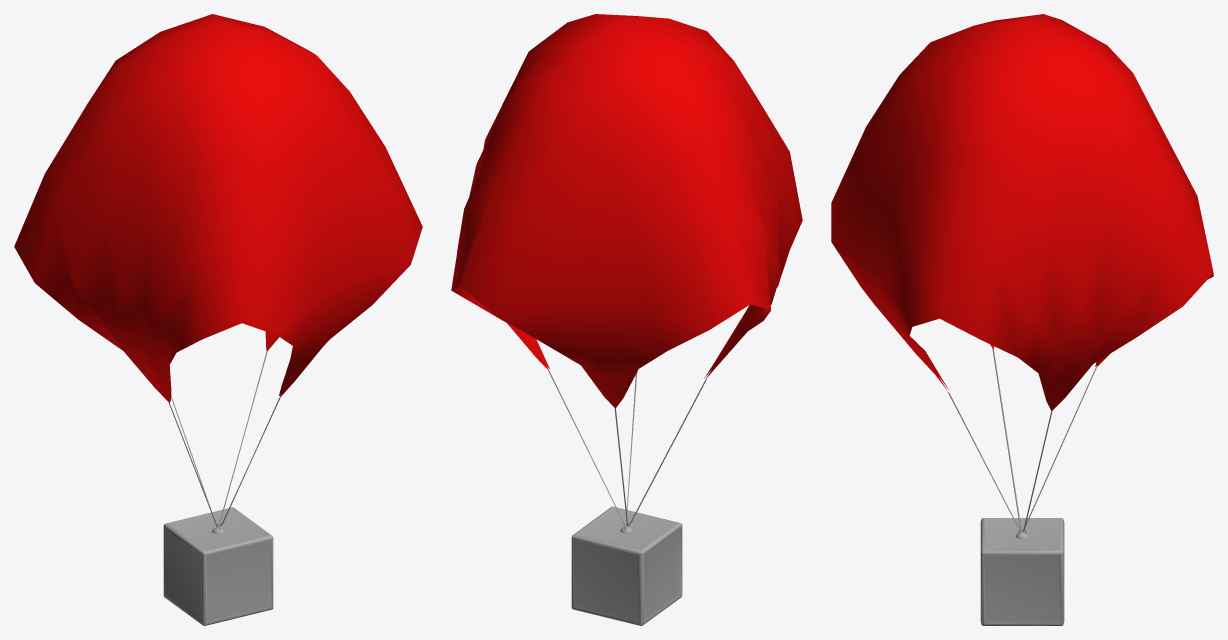
The model's file is crate_paracute_mesh.fbx.
3 renders of one model, left to right at view 1: azimuth 30°, elevation 25°; view 2: azimuth 150°, elevation 25°; view 3: azimuth 270°, elevation 25°, orthographic.
Visible parts, largest first — view 1: crate; view 2: crate; view 3: crate.
Boxes of the visible parts, x1,y1,x2,y2 form: crate: (14, 14, 422, 625); crate: (451, 14, 802, 625); crate: (831, 14, 1213, 625).
Size of the model in its own units: 55.59 by 94.52 by 55.59.
